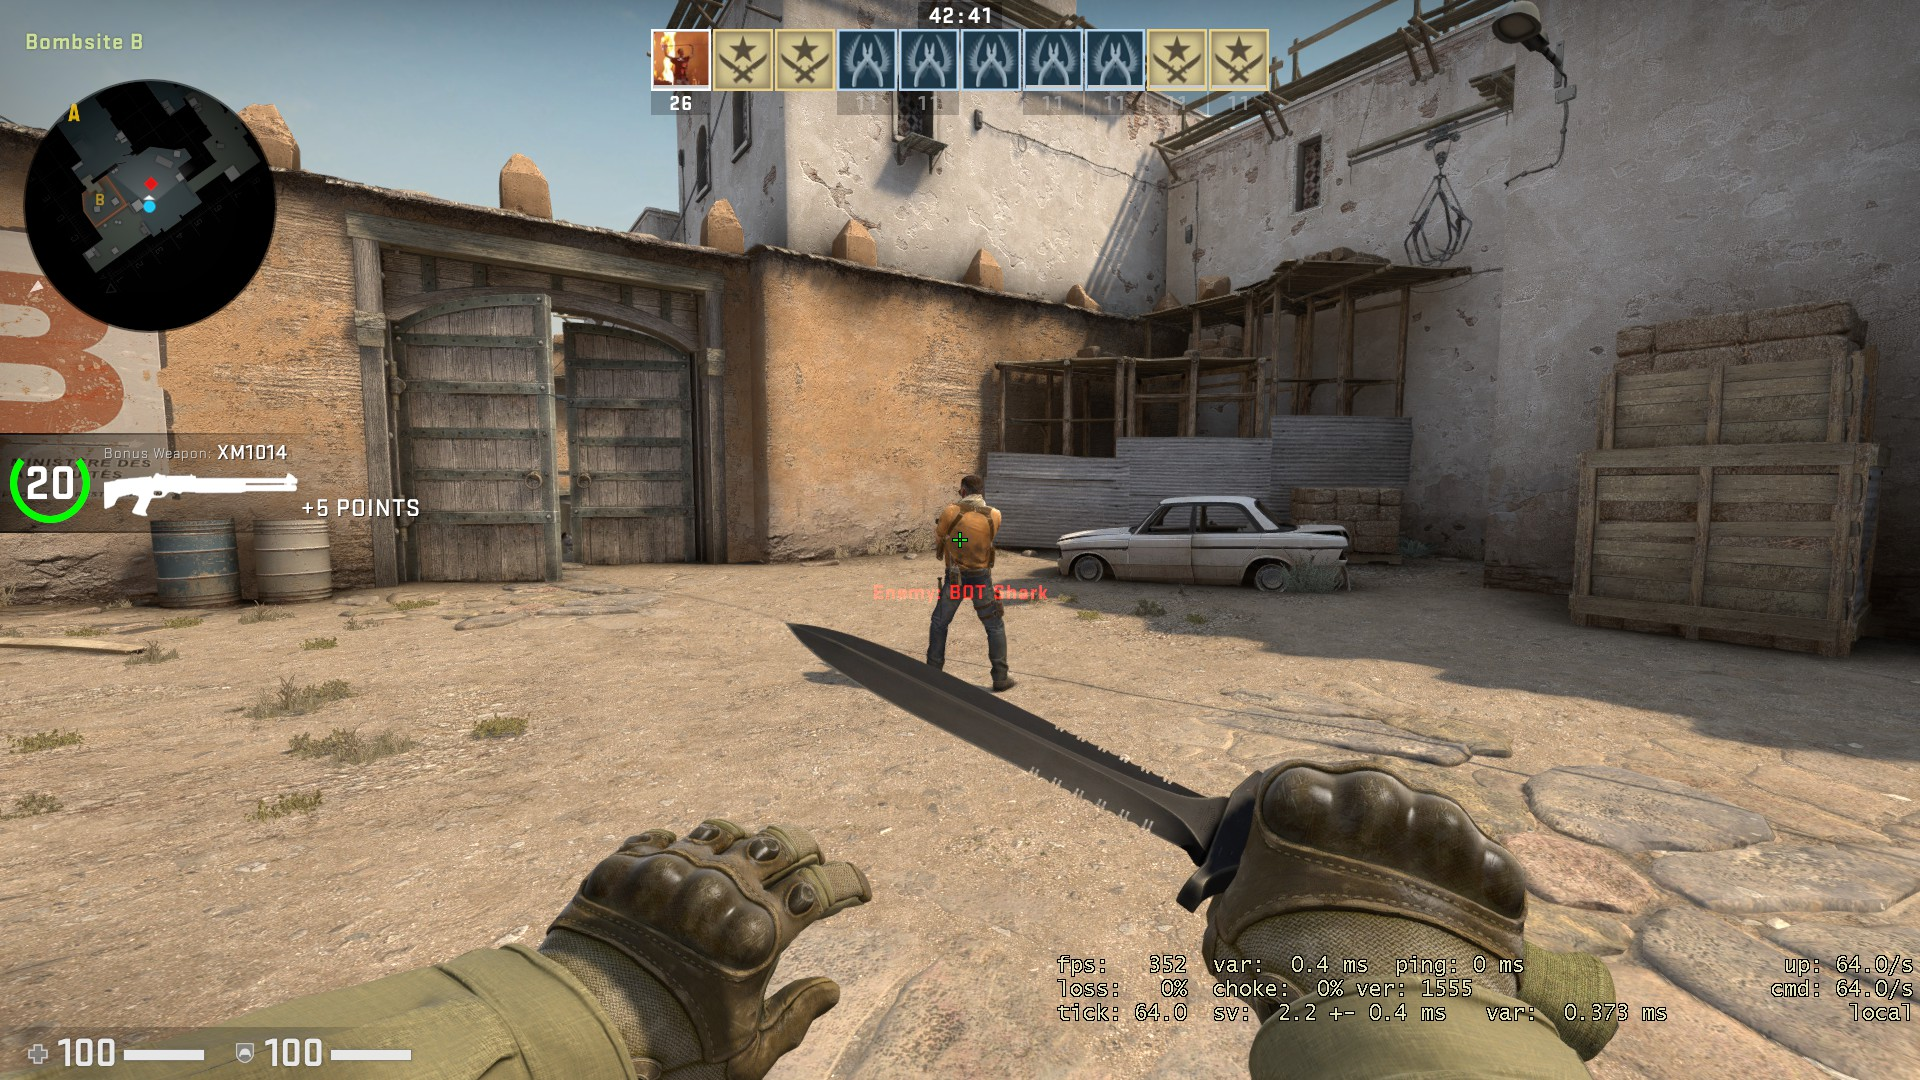player: (918, 468, 1022, 695)
